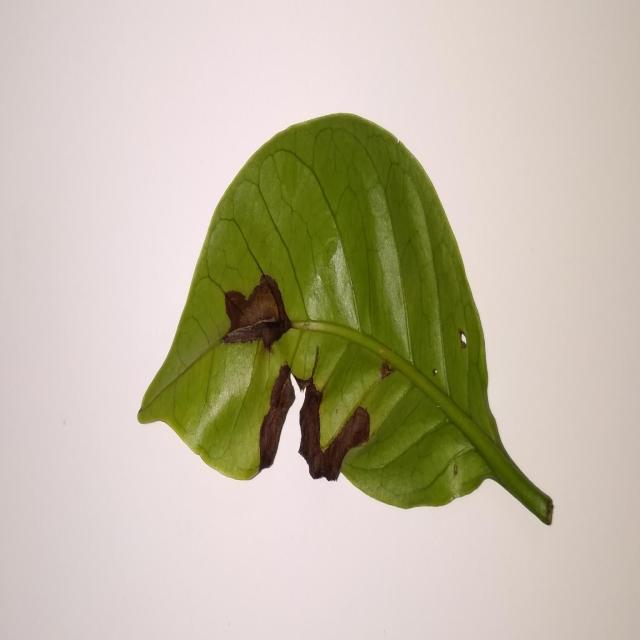Enfermedad-Antracnosis: (136, 114, 555, 526)
